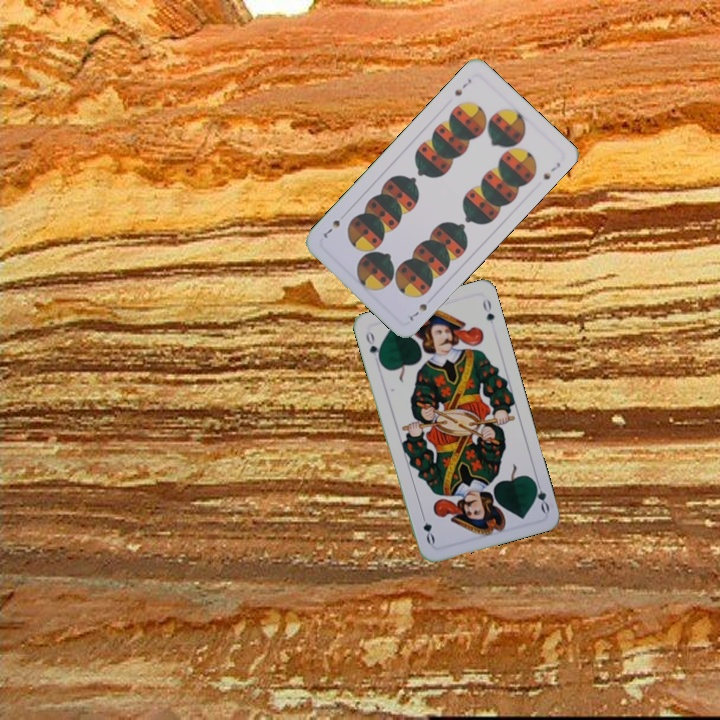GO: (529, 475, 552, 515), (362, 327, 384, 366)
S7: (405, 299, 430, 323), (450, 74, 474, 98)
